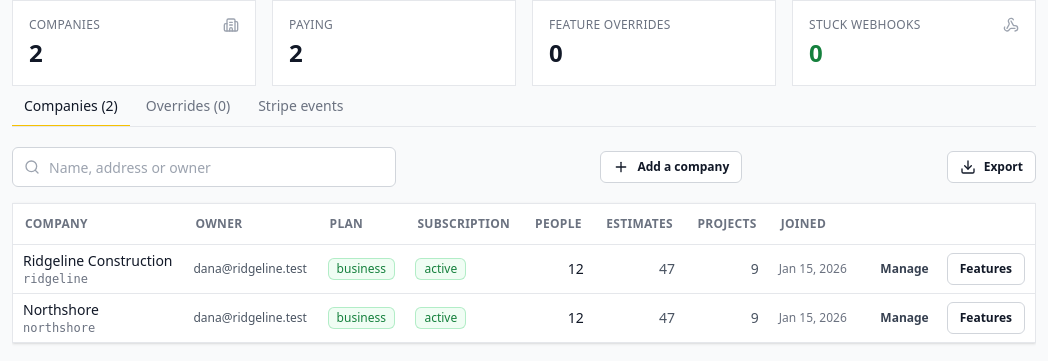
Scenario: the operator console › filters the tenant list
The width and height of the screenshot is (1048, 361).
expect the link "Northshore" is shown: met, box [23,300,99,318]
Type "north" into the field named "Filter companies".
click(204, 167); type("north")  # box [12,147,396,187]
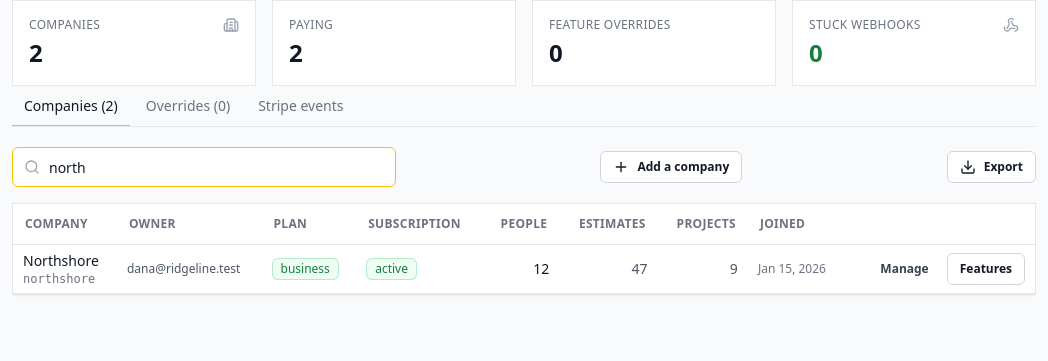
expect the link "Northshore" is shown: met, box [23,250,99,270]
expect the link "Ridgeline Construction" is gone: met
